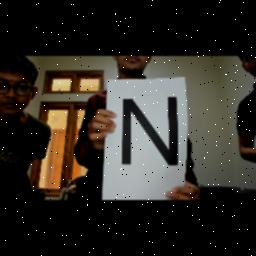n: (112, 90, 188, 170)
